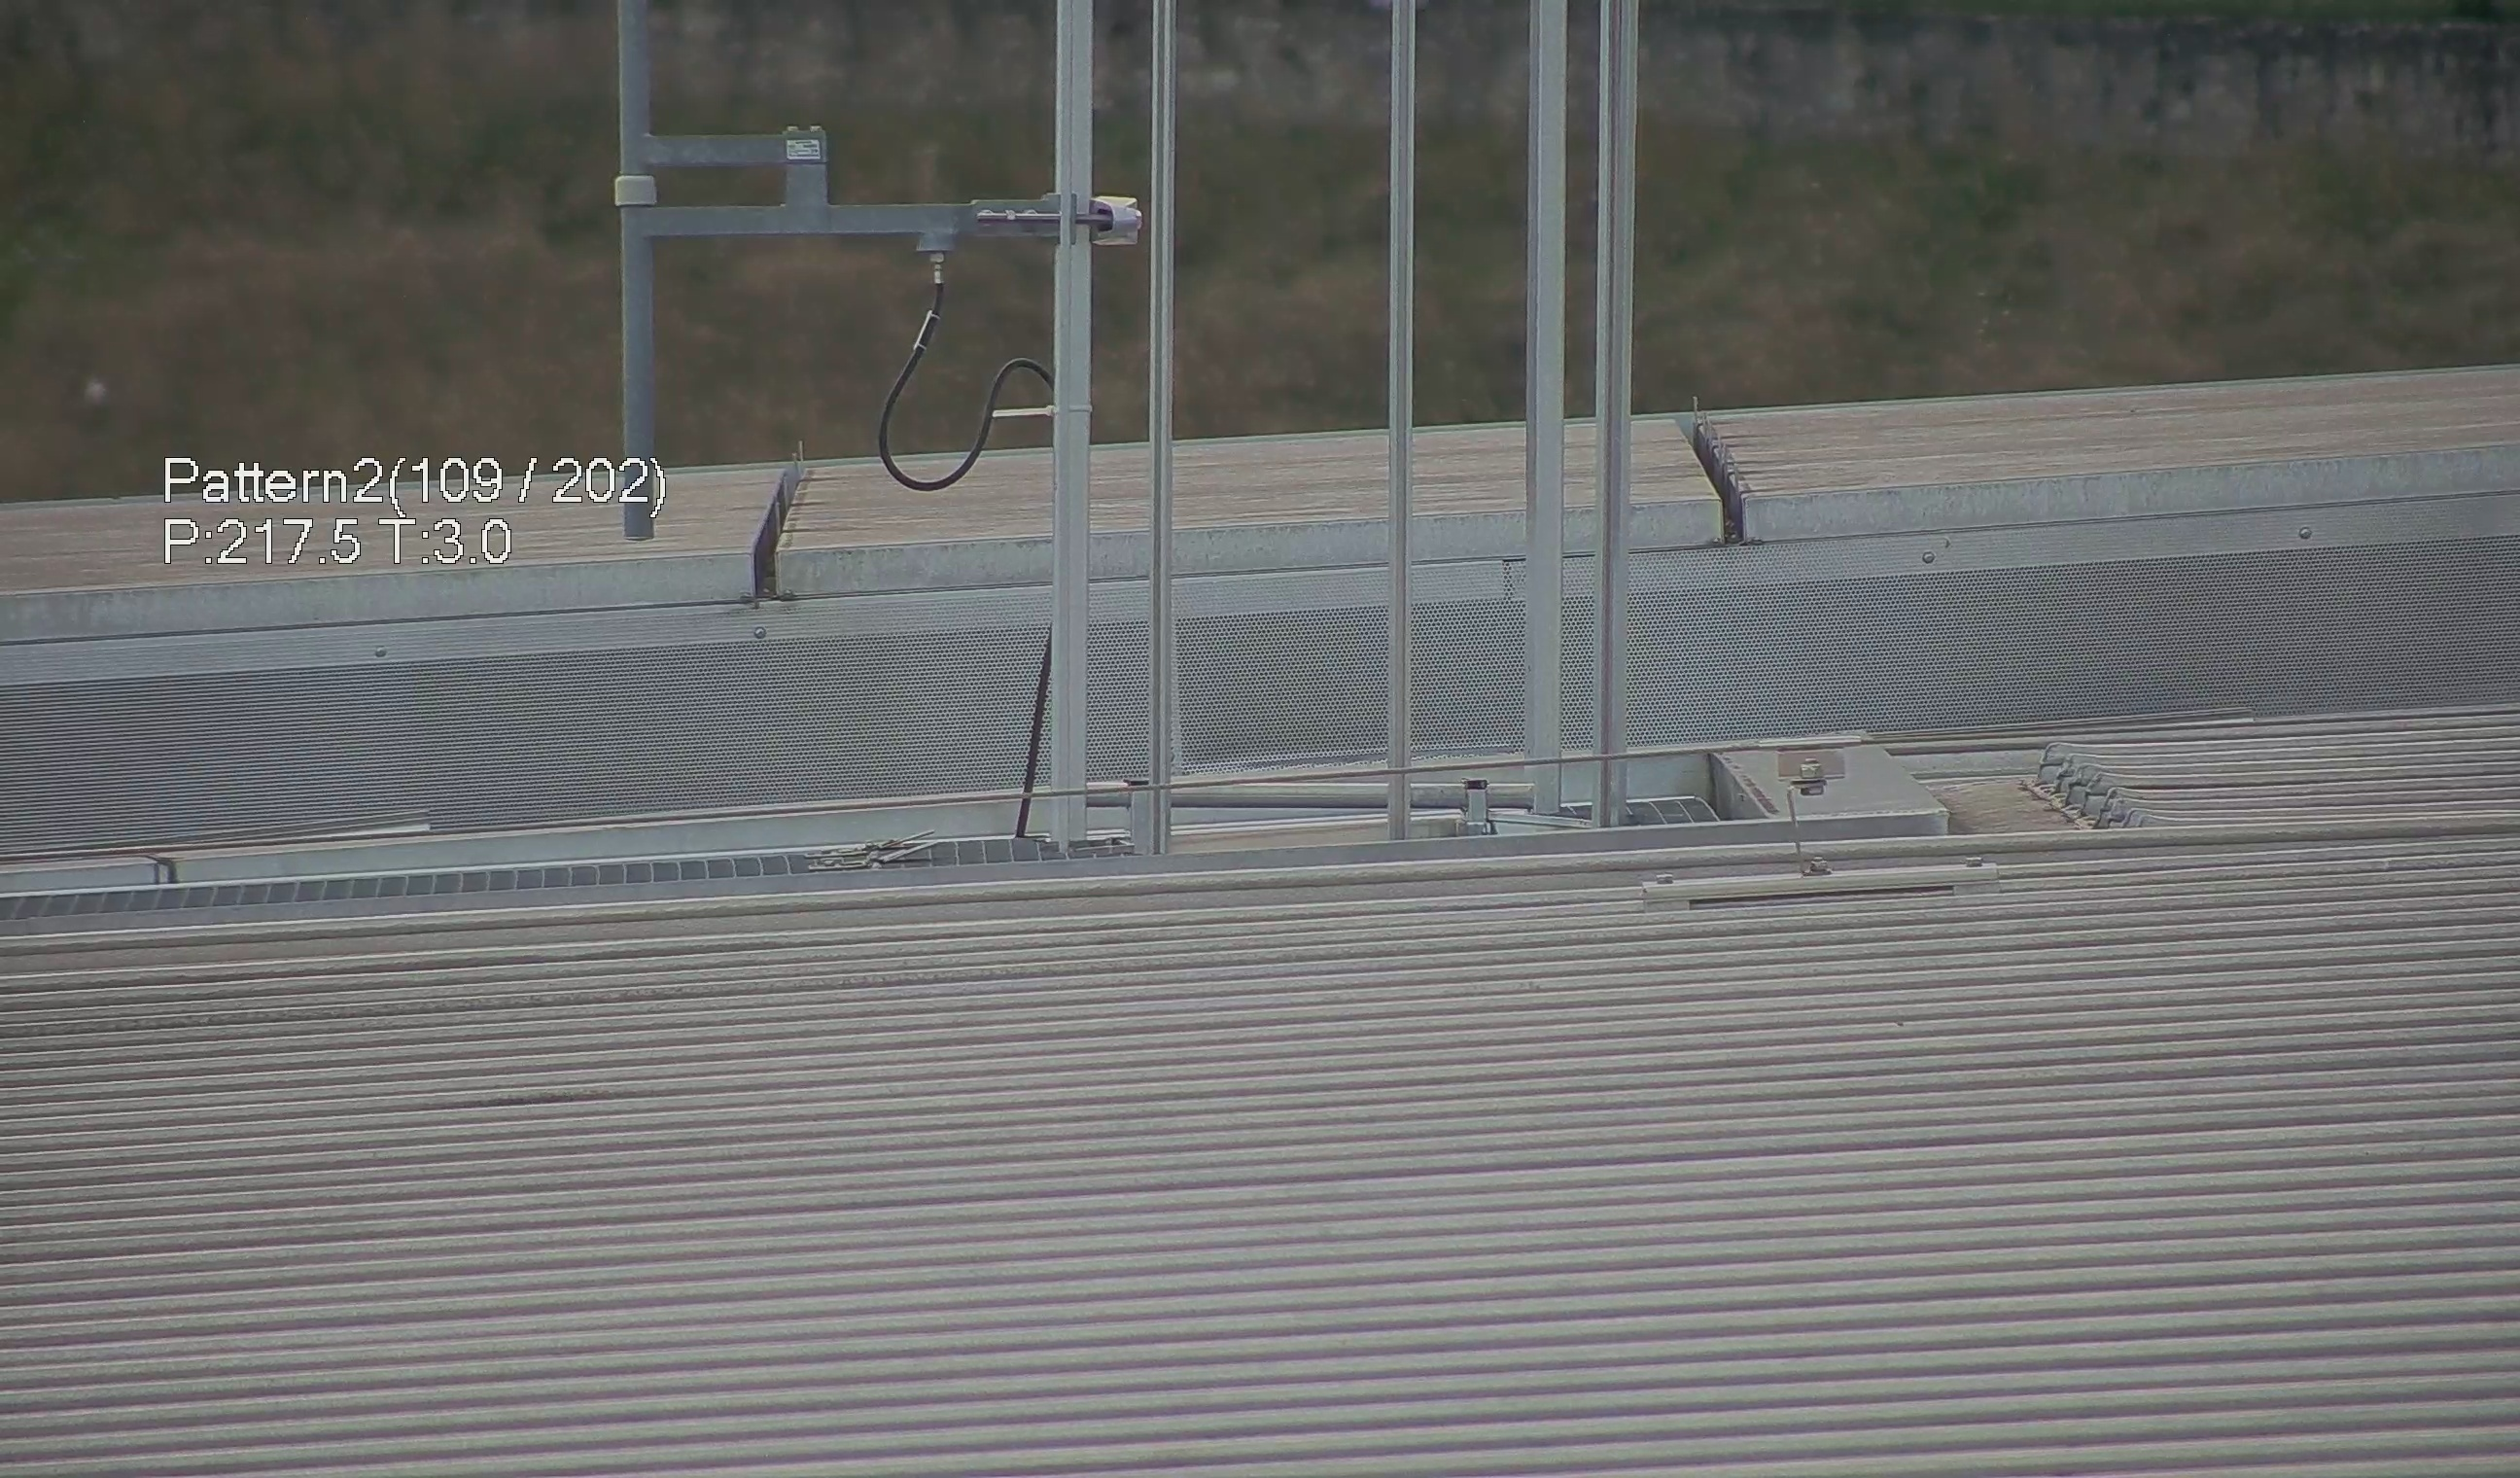Other: (1672, 391, 1769, 547)
